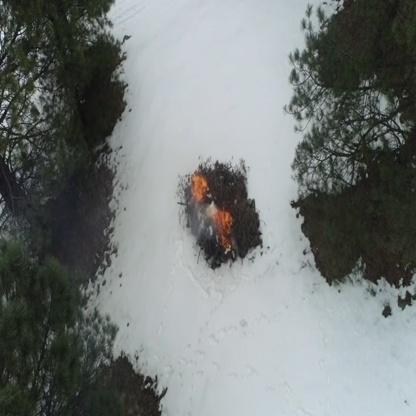Fire: (215, 211, 233, 233), (192, 177, 206, 200), (219, 236, 233, 248)
